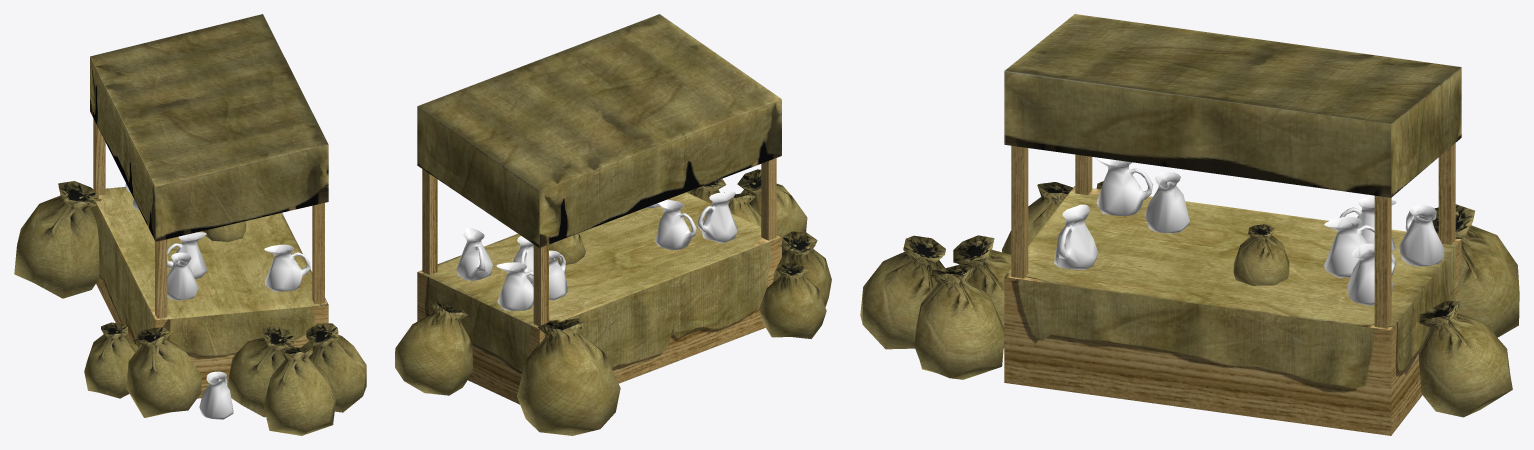
File: store04_2.fbx
3 views of the same model, side by side, from view 1: azimuth 30°, elevation 25°; view 2: azimuth 150°, elevation 25°; view 3: azimuth 270°, elevation 25° (orthographic). The views are drawn at different scales.
Visible parts, largest first — view 1: stand_25, bag_209, bag_210, bag_211, bag_215, bag_214, bag_212, pot_84, pot_83, pot_88, pot_81, bag_213; view 2: stand_25, bag_209, bag_216, bag_212, bag_210, bag_211, pot_88, pot_81, pot_86, pot_87, pot_85, bag_213 (+3 smaller); view 3: stand_25, bag_216, bag_214, bag_211, bag_209, bag_213, bag_215, pot_88, pot_86, pot_84, pot_81, pot_82 (+3 smaller).
Part boxes in pixels (x1,y1,x2,y2): stand_25: (90,14,328,398); bag_209: (14,181,99,298); bag_210: (126,327,201,417); bag_211: (263,347,335,435); bag_215: (228,326,294,417); bag_214: (301,323,366,412); bag_212: (84,322,138,398); pot_84: (264,244,310,291); pot_83: (199,371,233,419); pot_88: (167,252,198,300); pot_81: (167,232,207,278); bag_213: (202,221,246,241); stand_25: (417,14,781,404); bag_209: (517,318,620,435); bag_216: (395,302,473,395); bag_212: (759,263,826,339); bag_210: (773,231,831,306); bag_211: (737,169,807,241); pot_88: (697,191,737,243); pot_81: (655,199,696,250); pot_86: (496,262,533,310); pot_87: (456,227,492,280); pot_85: (532,250,567,300); bag_213: (549,233,585,265); stand_25: (1004,14,1461,435); bag_216: (1418,301,1512,417); bag_214: (913,265,1004,379); bag_211: (860,235,945,349); bag_209: (1432,204,1519,337); bag_213: (1233,224,1289,285); bag_215: (953,235,1011,347); pot_88: (1095,157,1153,216); pot_86: (1399,205,1444,266); pot_84: (1054,204,1098,270); pot_81: (1145,171,1189,233); pot_82: (1324,216,1374,278).
Size of the model in its own units: 67.66 by 58.02 by 107.
